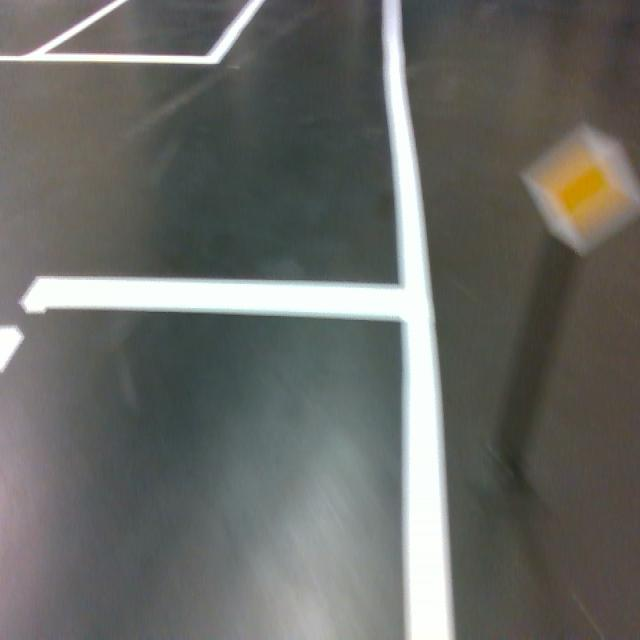priority-sign: (516, 119, 640, 261)
